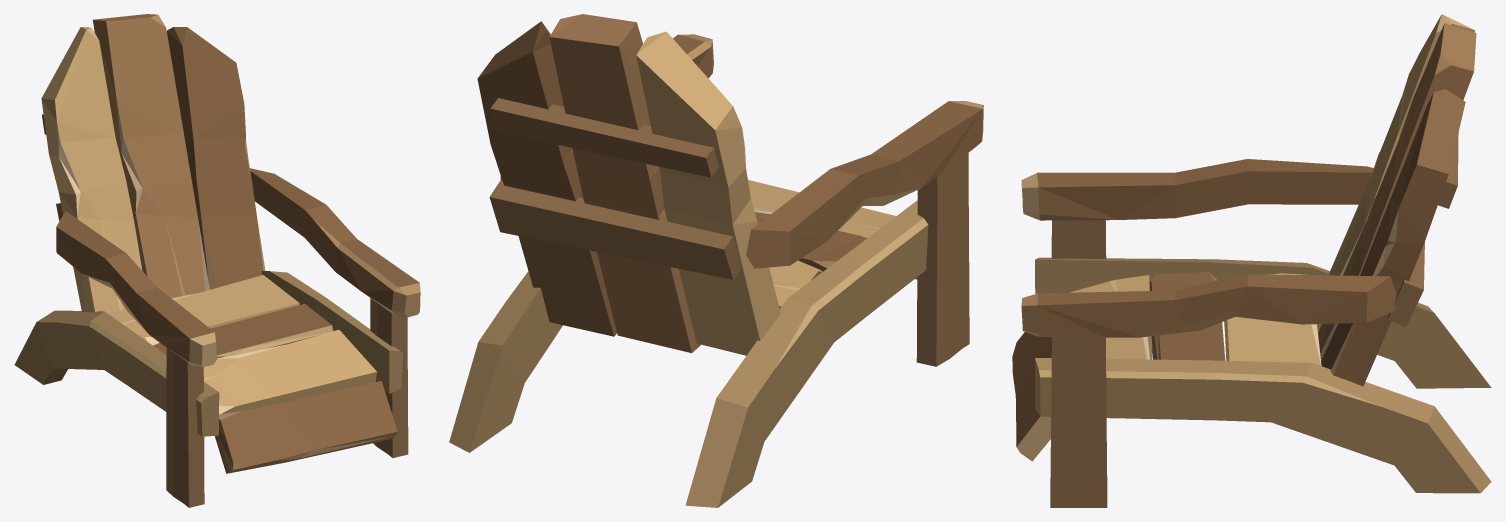
The model's file is EA_M_Furniture_Chair_Wooden_01.fbx.
3 views of the same model, side by side, from view 1: azimuth 30°, elevation 25°; view 2: azimuth 150°, elevation 25°; view 3: azimuth 270°, elevation 25° (orthographic). The views are drawn at different scales.
Visible parts, largest first — view 1: EA_M_Furniture_Chair_Wooden_01_LOD0; view 2: EA_M_Furniture_Chair_Wooden_01_LOD0; view 3: EA_M_Furniture_Chair_Wooden_01_LOD0.
Boxes of the visible parts, x1=… form: EA_M_Furniture_Chair_Wooden_01_LOD0: x1=14, y1=14, x2=420, y2=507; EA_M_Furniture_Chair_Wooden_01_LOD0: x1=449, y1=14, x2=983, y2=507; EA_M_Furniture_Chair_Wooden_01_LOD0: x1=1012, y1=14, x2=1491, y2=507.
Size of what is drawn, in the model's own units: 1.34 by 1.92 by 2.05.
